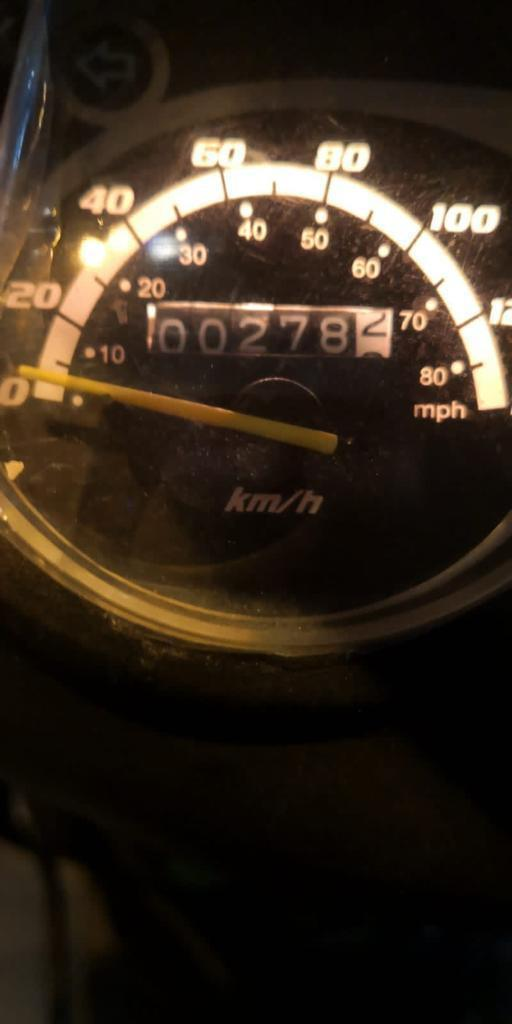0: (197, 316, 227, 355), (158, 316, 186, 354)
2: (236, 315, 268, 355), (362, 305, 388, 338)
7: (277, 311, 311, 348)
8: (317, 315, 351, 356)
odometer: (143, 296, 399, 360)
